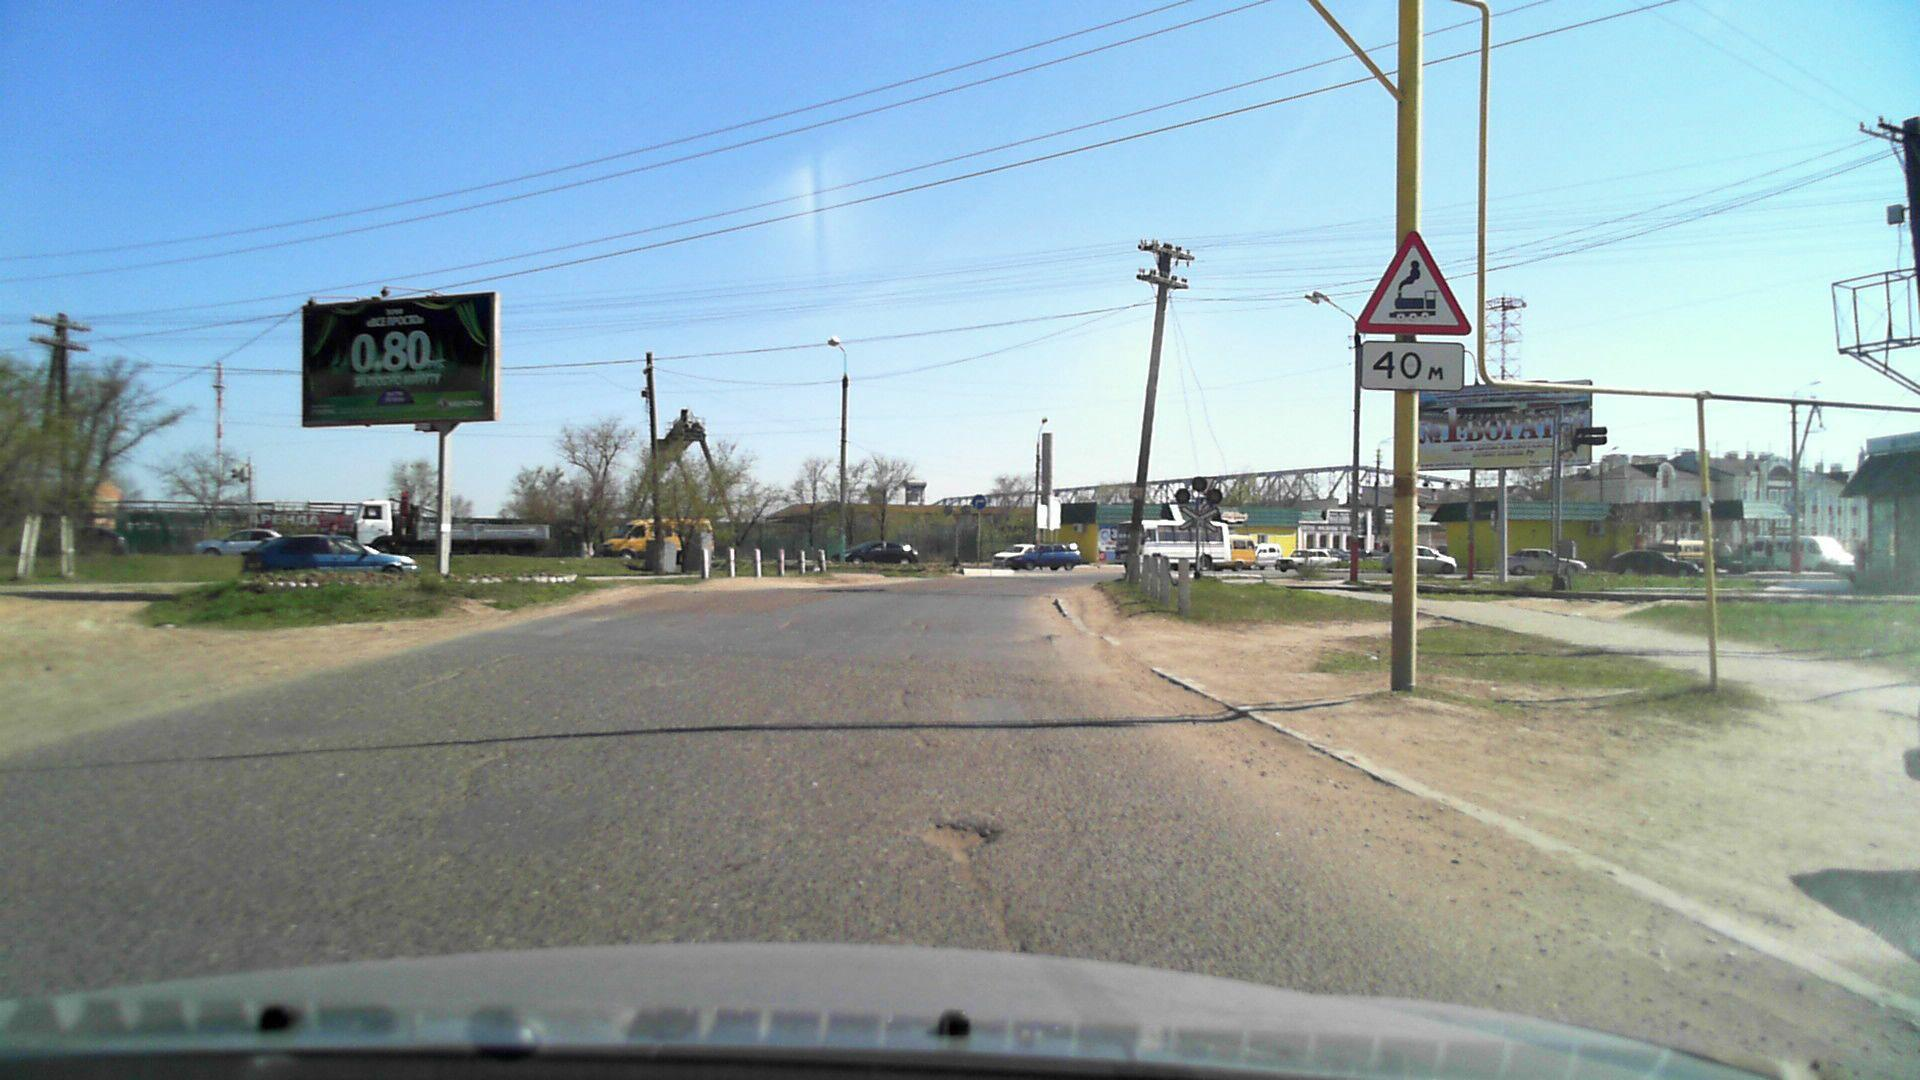1_2: (1349, 224, 1470, 338)
1_3_1: (1178, 508, 1221, 531)
4_1_2: (971, 493, 985, 510)
8_1_1: (1360, 339, 1465, 393)
